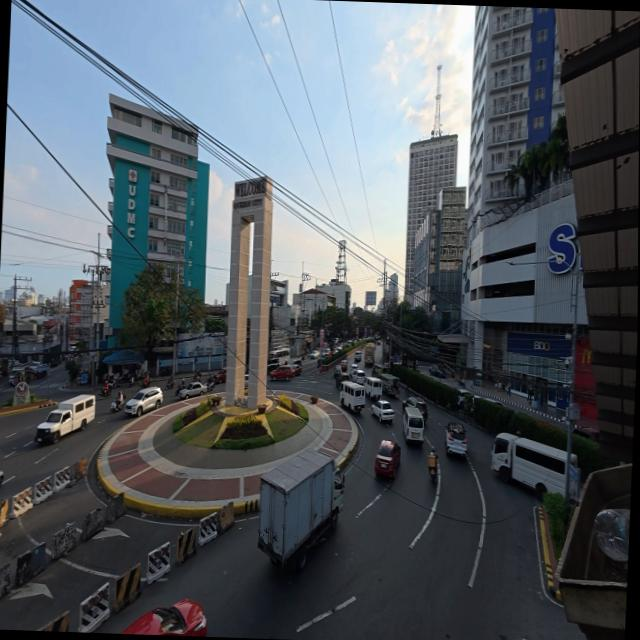car: (121, 387, 163, 418), (373, 439, 400, 482), (445, 420, 472, 457), (370, 401, 396, 423), (178, 380, 207, 399), (268, 364, 293, 382)
motorcycle: (0, 459, 5, 494)
trucks: (253, 446, 342, 576)
vans: (34, 388, 98, 447)
